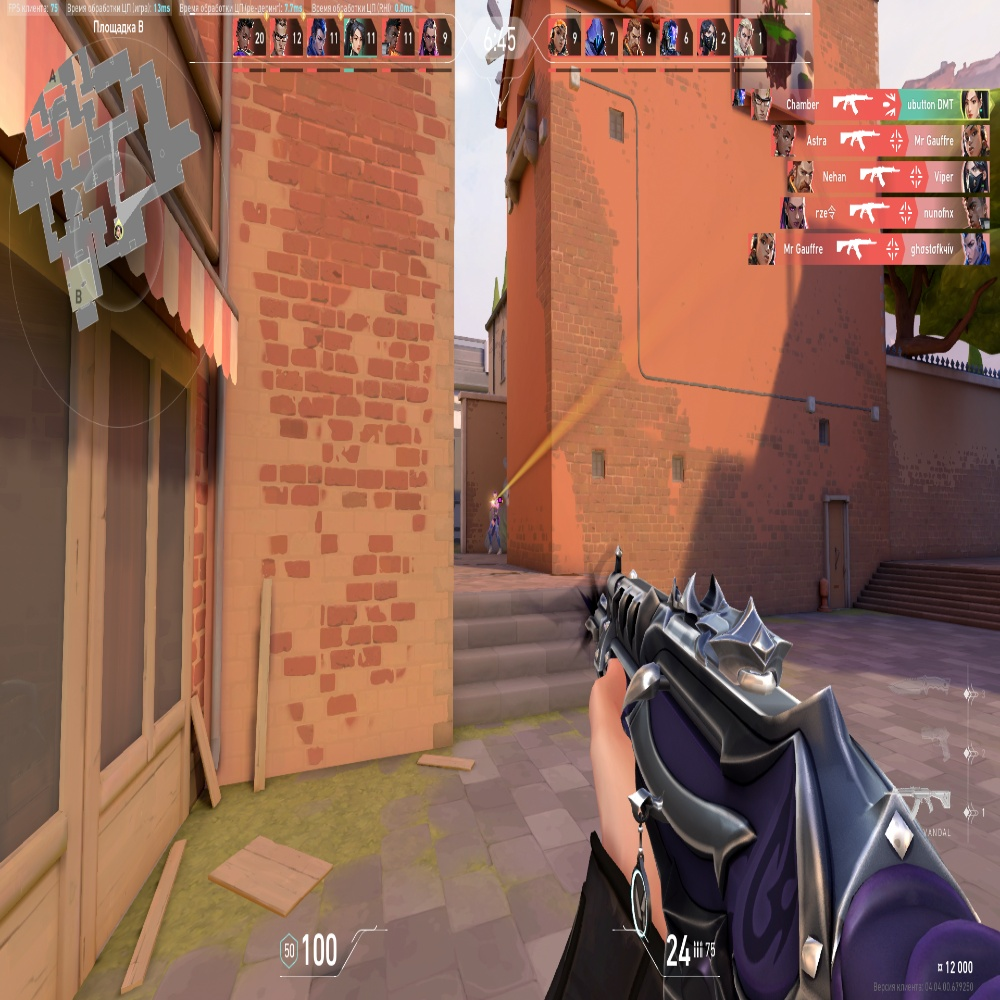body: (491, 500, 499, 522)
head: (493, 491, 498, 500)
